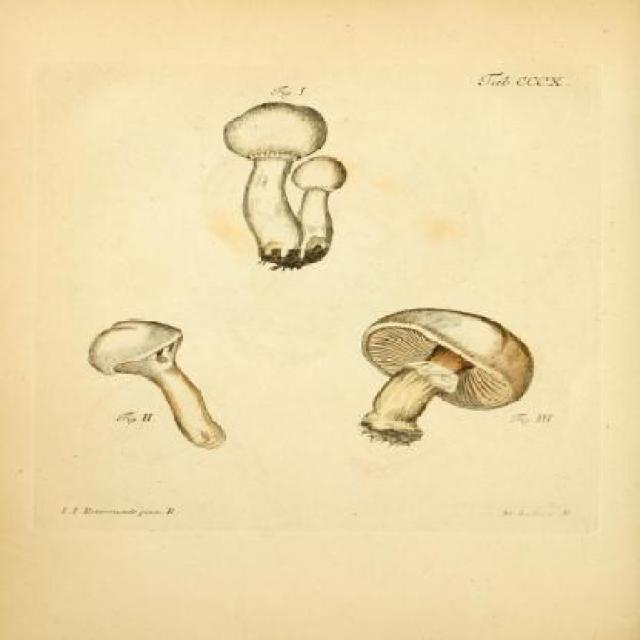Mushroom: (352, 304, 540, 446), (89, 319, 231, 450), (220, 101, 329, 267), (290, 154, 348, 263)
